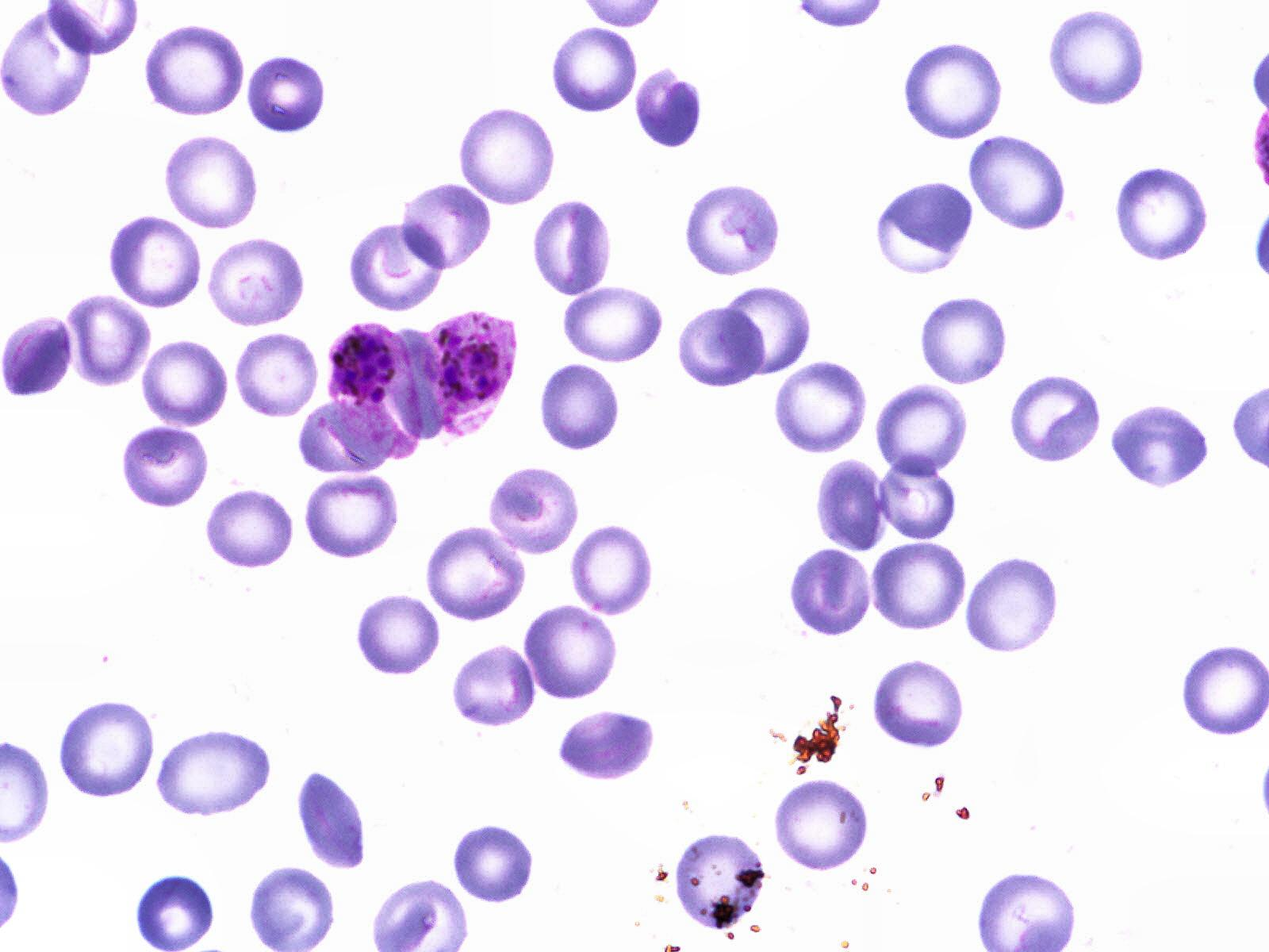Infected: (329, 320, 422, 460), (422, 312, 518, 443)
Uninfected: (454, 104, 562, 209), (899, 39, 1007, 141), (2, 5, 95, 121), (142, 19, 246, 121), (423, 524, 528, 625), (967, 133, 1072, 232), (1047, 7, 1147, 109), (522, 605, 622, 704), (1115, 160, 1213, 260), (345, 220, 449, 314), (769, 357, 868, 455), (874, 383, 968, 486), (155, 734, 271, 817), (684, 180, 782, 278), (106, 213, 203, 312), (163, 136, 260, 232), (773, 780, 872, 873), (204, 234, 305, 325), (966, 557, 1059, 652), (138, 336, 233, 429), (62, 702, 155, 797), (672, 836, 764, 932), (716, 286, 812, 378), (1008, 376, 1103, 468), (397, 182, 494, 271), (305, 475, 404, 562), (872, 185, 972, 271), (558, 283, 665, 363), (872, 658, 964, 751), (1178, 642, 1268, 735), (548, 27, 642, 116), (874, 543, 969, 631), (243, 48, 333, 140), (120, 422, 213, 511), (673, 302, 769, 387), (789, 544, 874, 639), (487, 468, 578, 555), (534, 194, 608, 300), (298, 399, 397, 478), (570, 524, 655, 616), (920, 294, 1006, 383), (1111, 406, 1207, 485), (558, 704, 656, 781), (539, 362, 624, 450), (67, 295, 149, 386), (236, 334, 323, 419), (206, 485, 295, 568), (453, 820, 539, 905), (358, 593, 443, 678), (878, 453, 961, 539), (816, 456, 889, 553), (298, 772, 367, 870), (453, 646, 537, 726), (133, 876, 217, 952), (0, 313, 75, 398), (633, 67, 700, 158)
